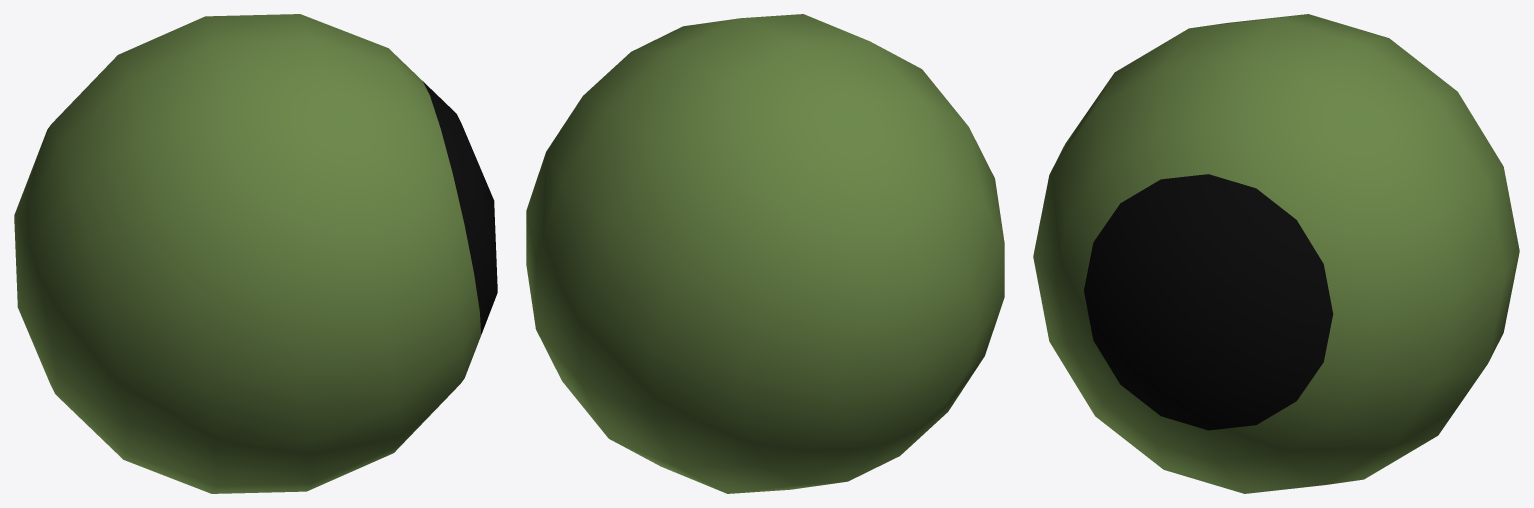
File: boa_constrictor_eye.obj
3 renders of one model, left to right at view 1: azimuth 30°, elevation 25°; view 2: azimuth 150°, elevation 25°; view 3: azimuth 270°, elevation 25°, orthographic.
Visible parts, largest first — view 1: eye; view 2: eye; view 3: eye.
Boxes of the visible parts, bbox=[...] form: eye: bbox=[14, 14, 497, 493]; eye: bbox=[526, 14, 1004, 493]; eye: bbox=[1033, 14, 1519, 493].
Size of the model in its own units: 0.0336 by 0.0331 by 0.0336.
